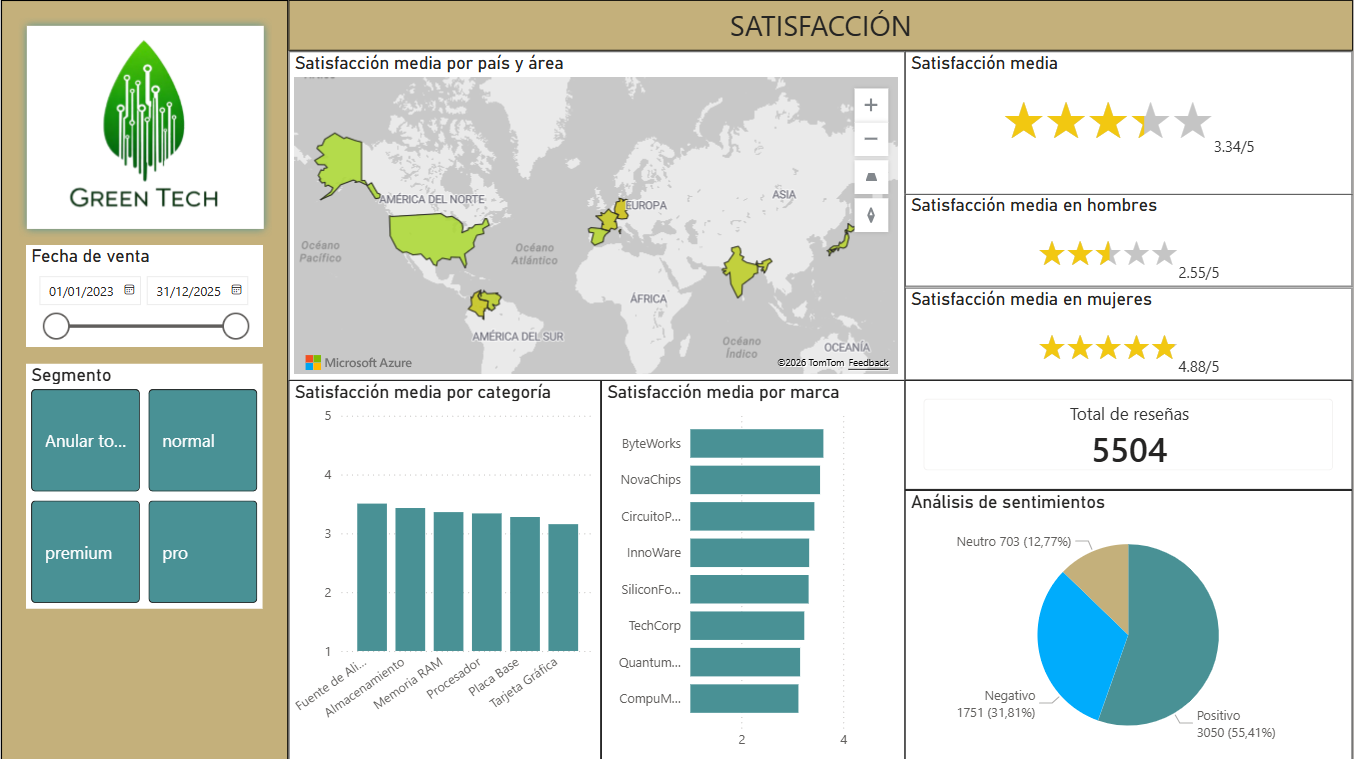

The page's visual inventory and layout, read from the dashboard file:
{"tool":"powerbi","page":{"name":"Satisfacción","canvas":[1280,720],"ordinal":3},"visuals":[{"type":"shape","box":[0,0,272,720],"z":0},{"type":"textbox","box":[272,0,1008,48],"z":1000},{"type":"shape","box":[16,16,240,208],"z":2000},{"type":"actionButton","box":[48,32,176,176],"z":3000},{"type":"slicer","title":"Fecha de venta","fields":{"Values":["ventas.fecha_venta"]},"box":[24,232,224,96],"z":4000},{"type":"advancedSlicerVisual","fields":{"Values":["clientes.segmento"]},"box":[24,344,224,232],"z":5000},{"type":"azureMap","title":"Satisfacción media por país y área","fields":{"Category":["paises.nombre","clientes.ubicacion"]},"box":[272,48,584,312],"z":6000},{"type":"ratingsvisual001","title":"Satisfacción media en mujeres","fields":{"measure":["Avg(feedback.puntuacion)"]},"box":[856,272,424,88],"z":7000},{"type":"ratingsvisual001","title":"Satisfacción media","fields":{"measure":["Avg(feedback.puntuacion)"]},"box":[856,48,424,136],"z":7001},{"type":"ratingsvisual001","title":"Satisfacción media en hombres","fields":{"measure":["Avg(feedback.puntuacion)"]},"box":[856,184,424,88],"z":7002},{"type":"columnChart","title":"Satisfacción media por categoría","fields":{"Category":["categorias.nombre"],"Y":["Avg(feedback.puntuacion)"]},"box":[272,360,296,360],"z":7003},{"type":"barChart","title":"Satisfacción media por marca","fields":{"Category":["marcas.nombre"],"Y":["Avg(feedback.puntuacion)"]},"box":[568,360,288,360],"z":7004},{"type":"cardVisual","fields":{"Data":["CountNonNull(feedback.feedback_id)"]},"box":[856,360,424,104],"z":7005},{"type":"pieChart","title":"Análisis de sentimientos","fields":{"Category":["feedback.sentimiento"],"Y":["CountNonNull(feedback.sentimiento)"]},"box":[856,464,424,256],"z":7006}]}

Visuals, with their boxes in screenshot pixels (x1, y1, x2, y2), scaled from the page's 1280x720 canvas onto the 1354x759 screenshot:
shape: l=0, t=0, r=288, b=758
textbox: l=288, t=0, r=1353, b=51
shape: l=17, t=17, r=271, b=236
actionButton: l=51, t=34, r=237, b=219
"Fecha de venta" slicer: l=25, t=245, r=262, b=346
advancedSlicerVisual - clientes.segmento: l=25, t=363, r=262, b=607
"Satisfacción media por país y área" azureMap: l=288, t=51, r=905, b=380
"Satisfacción media en mujeres" ratingsvisual001: l=905, t=287, r=1353, b=380
"Satisfacción media" ratingsvisual001: l=905, t=51, r=1353, b=194
"Satisfacción media en hombres" ratingsvisual001: l=905, t=194, r=1353, b=287
"Satisfacción media por categoría" columnChart: l=288, t=380, r=601, b=758
"Satisfacción media por marca" barChart: l=601, t=380, r=905, b=758
cardVisual - CountNonNull(feedback.feedback_id): l=905, t=380, r=1353, b=489
"Análisis de sentimientos" pieChart: l=905, t=489, r=1353, b=758
